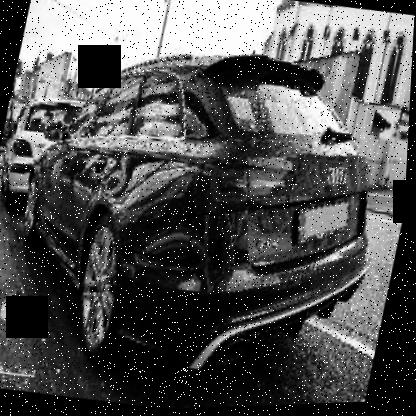not_emergency: (0, 44, 413, 399)
